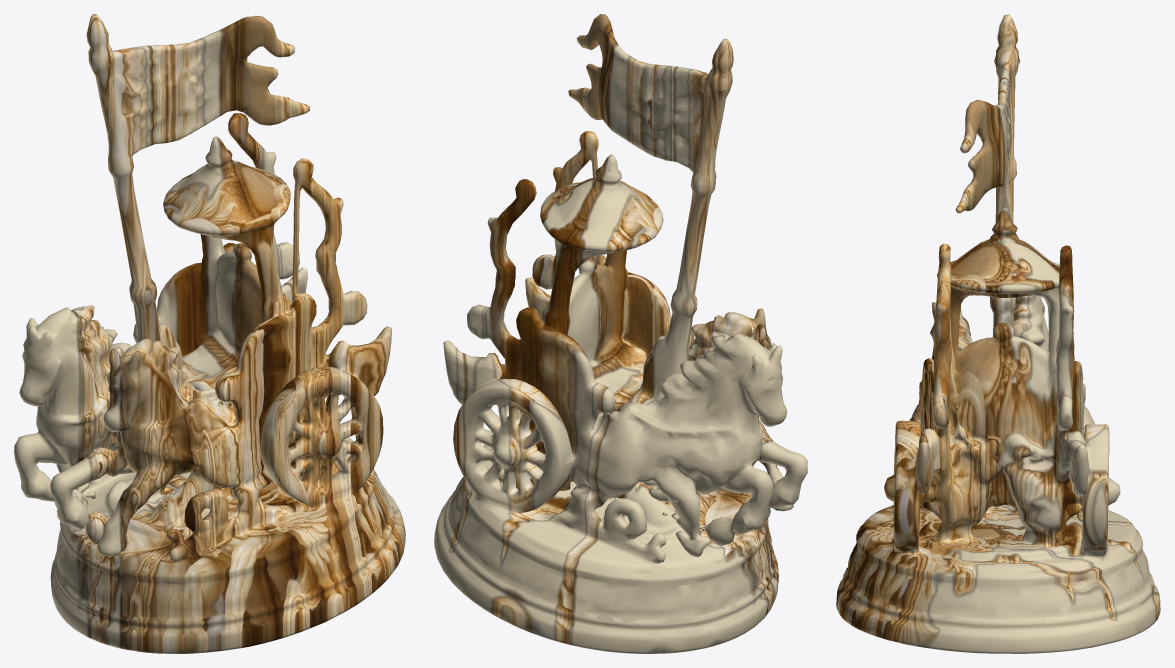
Rendered from ratha.glb.
The picture shows the model from 3 angles, left to right: view 1: azimuth 30°, elevation 25°; view 2: azimuth 150°, elevation 25°; view 3: azimuth 270°, elevation 25°; orthographic projection. The views are drawn at different scales.
Parts seen in each view (by area): view 1: geometry_0; view 2: geometry_0; view 3: geometry_0.
Boxes of the visible parts, x1,y1,x2,y2 form: geometry_0: (14,14,405,653); geometry_0: (434,14,807,653); geometry_0: (836,14,1160,653).
Size of the model in its own units: 1.21 by 2 by 1.04.
Materials: 1 (1 with a texture image).
